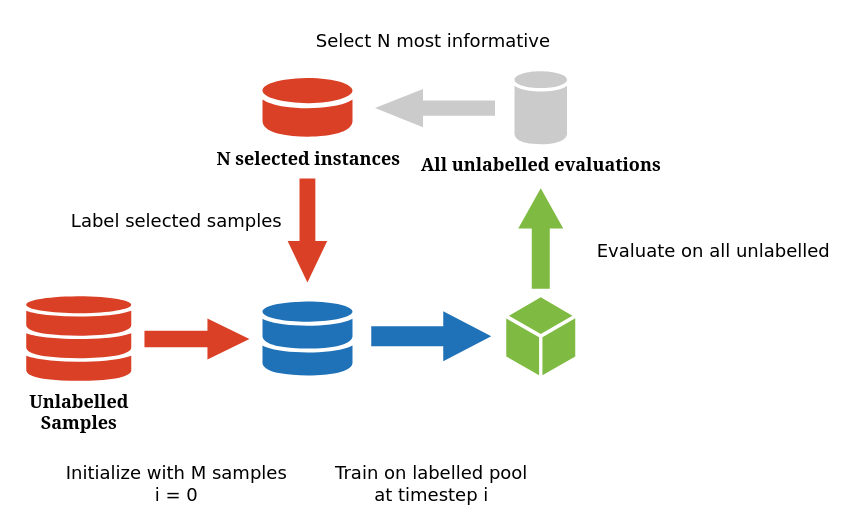
The diagram is 866 pixels wide and 531 high, and some of its shapes have lost their labels. Here are the shapes that lost their labels. From the top down, the centre of each, then its label:
At point 307,338: "Labelled Samples".
At point 540,336: "Iteratively trained model at timestep i".
